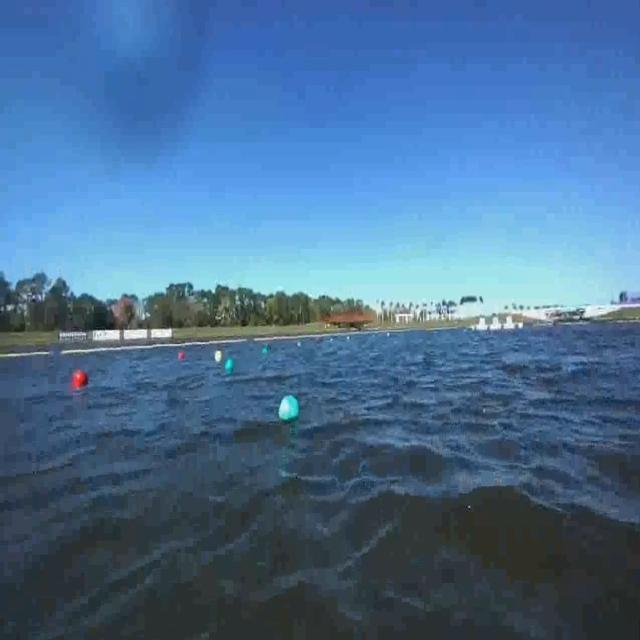green-buoy: (279, 396, 300, 423), (224, 358, 233, 372)
red-buoy: (72, 372, 89, 388), (178, 351, 186, 361), (181, 351, 188, 361)
yellow-buoy: (215, 351, 222, 362)
